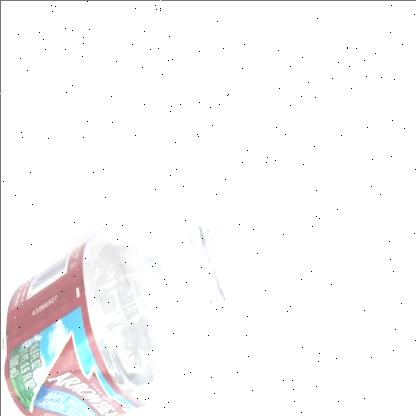Plastic Bottle: (0, 217, 244, 416)
